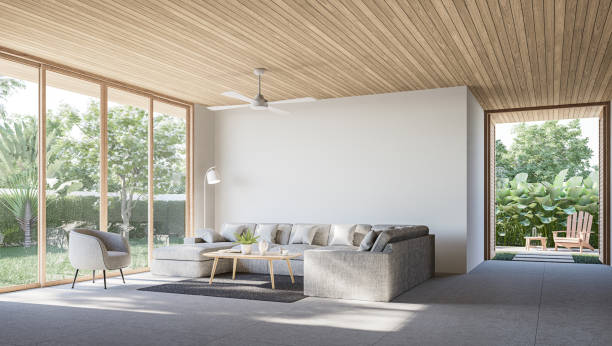chair: (66, 225, 131, 291)
floor lamp: (201, 164, 223, 227)
small plant: (235, 227, 260, 253)
sofa: (148, 220, 438, 304)
table: (201, 244, 302, 291)
